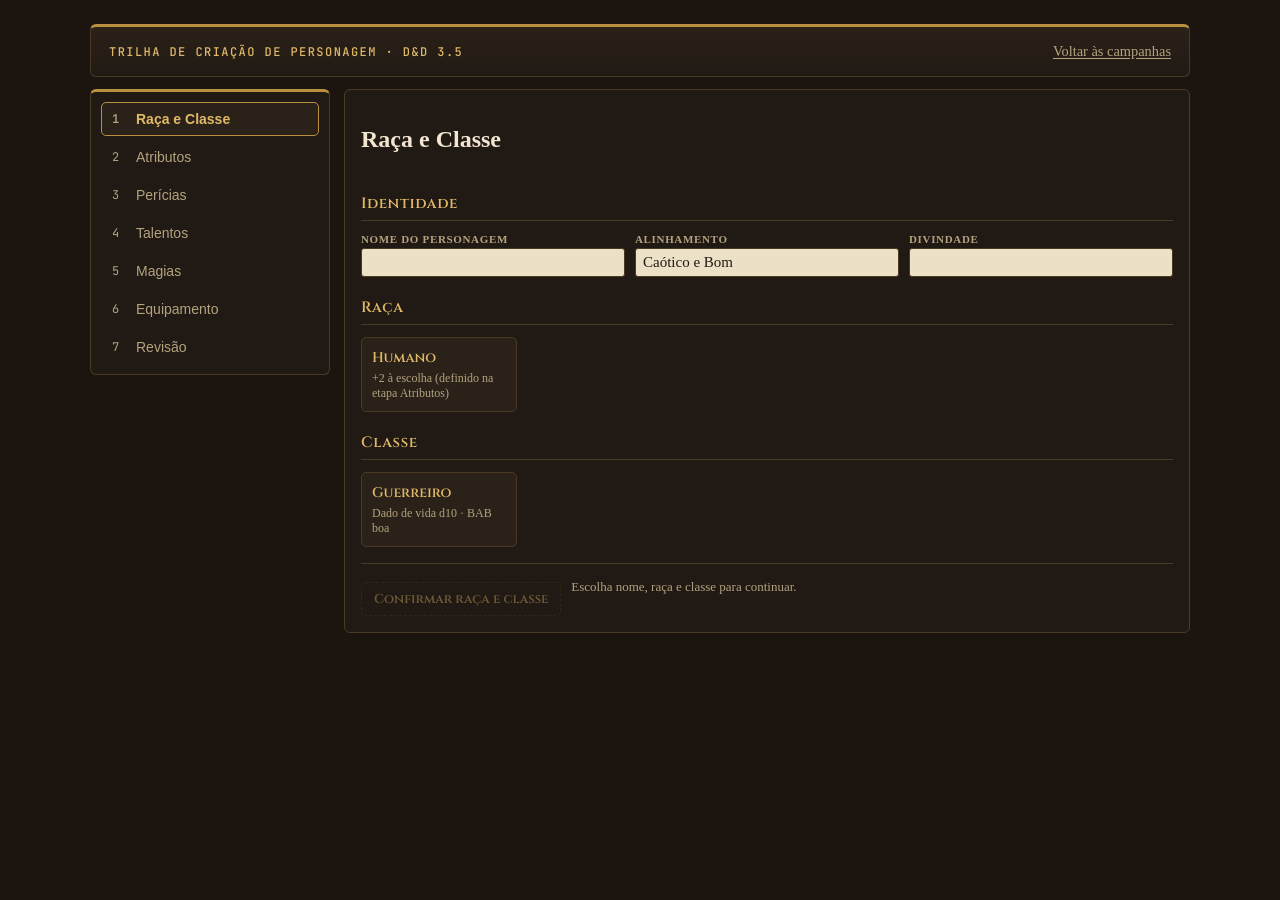
Test: trilha de criação de personagem › escolhe raça e classe e avança para a etapa de Atributos
The width and height of the screenshot is (1280, 900).
Expected: the heading "Raça e Classe" is shown, x1=361 y1=126 x2=501 y2=153
In the field labelled "Nome do personagem": x=493, y=262 x1=361 y1=248 x2=625 y2=277, type "Thorin"
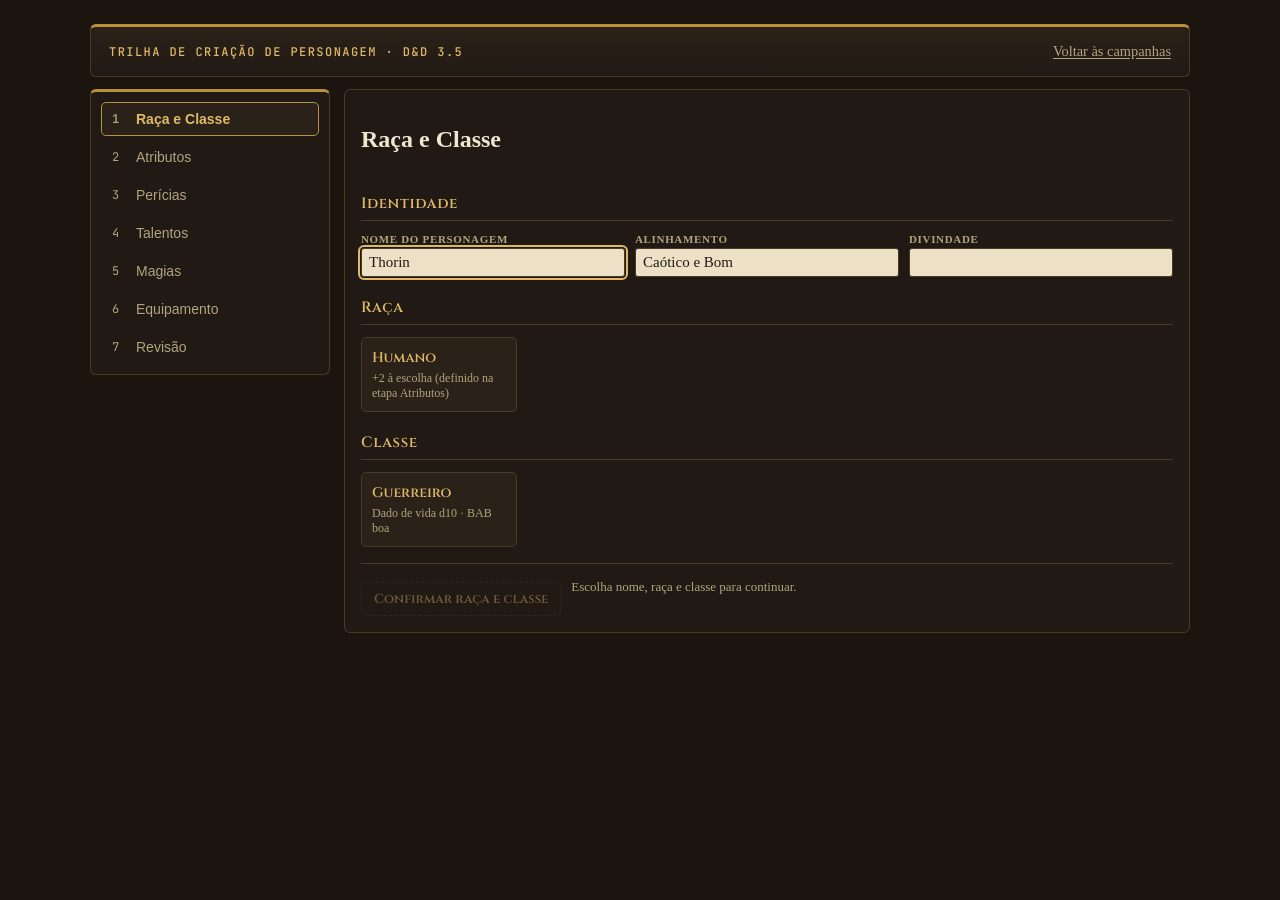
Click the button "Humano +2 à escolha (definido na etapa Atributos)": x=439, y=374 x1=361 y1=337 x2=517 y2=412
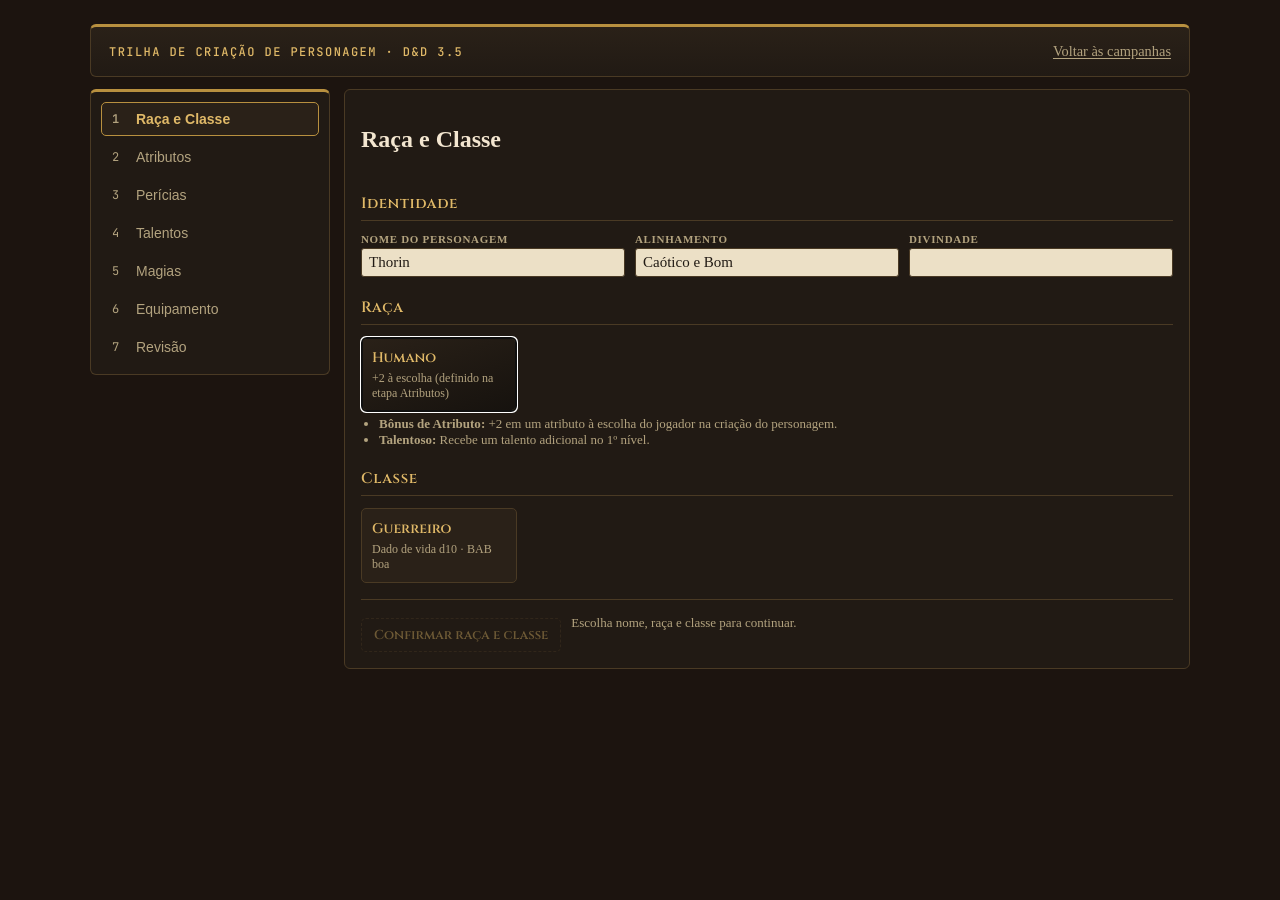
Click the button "Guerreiro Dado de vida d10 · BAB boa": x=439, y=545 x1=361 y1=508 x2=517 y2=583
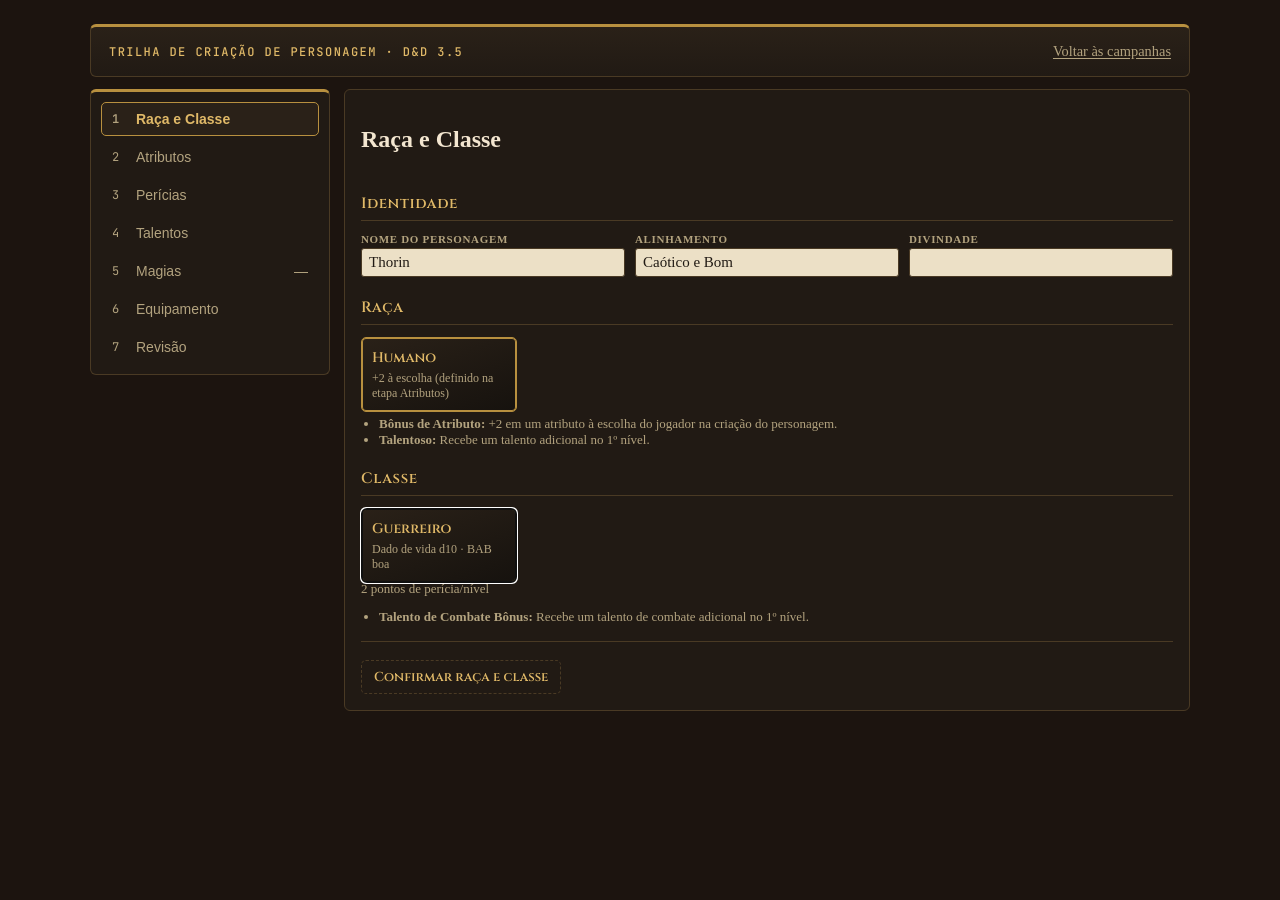
Click the button "Confirmar raça e classe": x=461, y=677 x1=361 y1=660 x2=561 y2=694
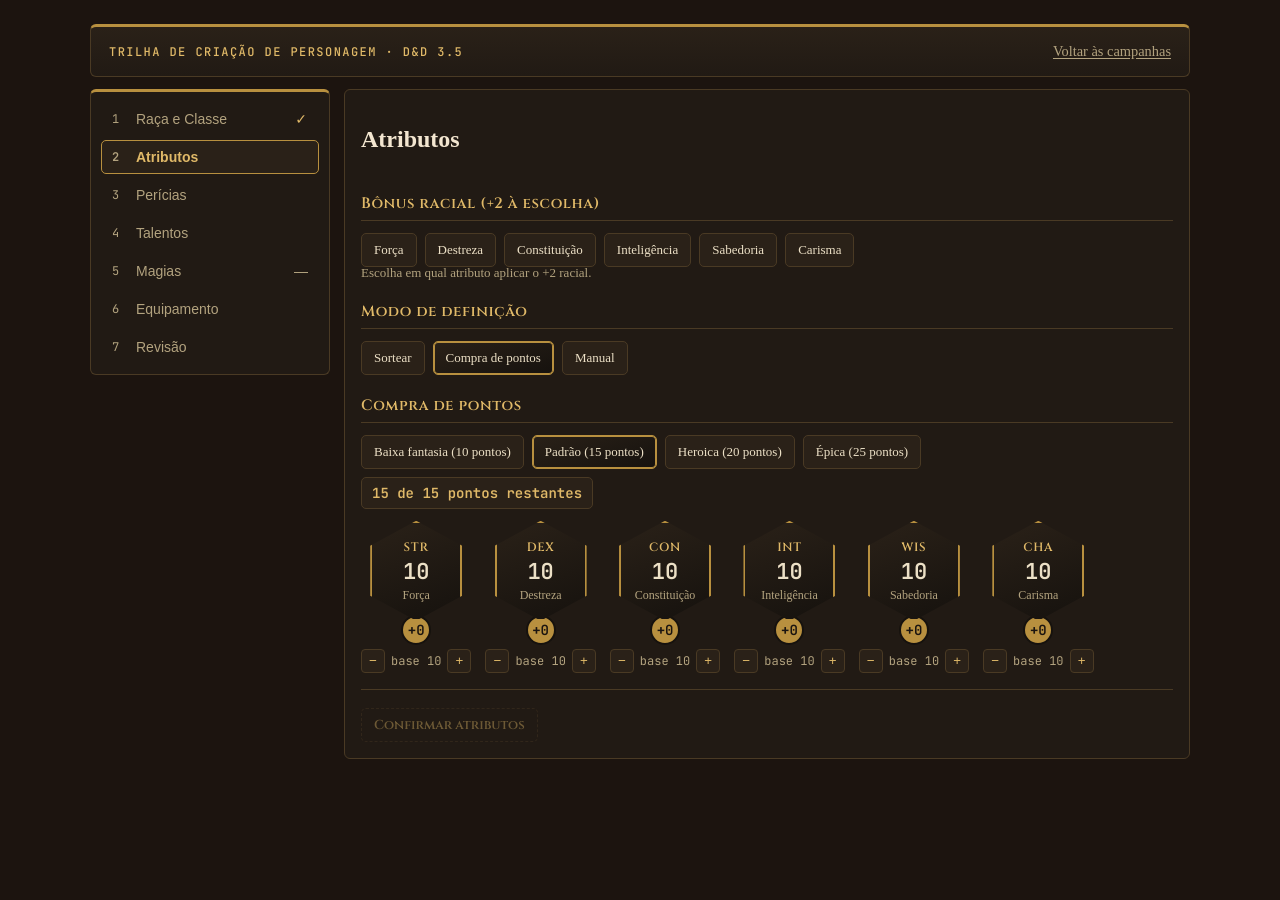
Expected: the heading "Atributos" is shown, x1=361 y1=126 x2=460 y2=153
